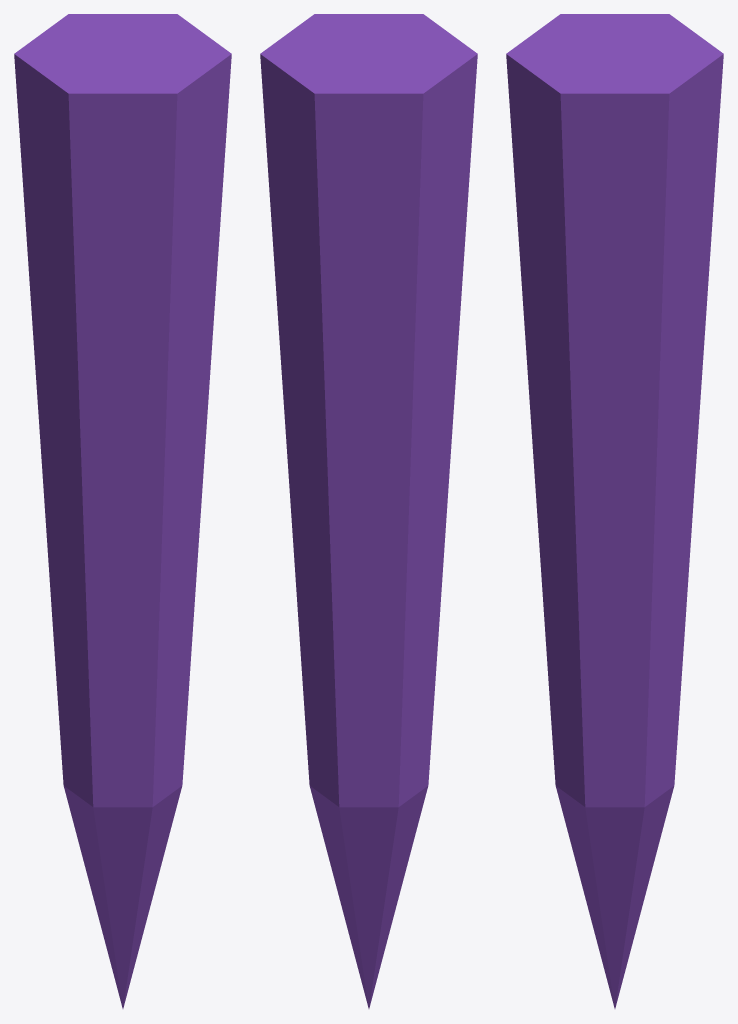
The model's file is Jem_35.fbx.
The picture shows the model from 3 angles, left to right: view 1: azimuth 30°, elevation 25°; view 2: azimuth 150°, elevation 25°; view 3: azimuth 270°, elevation 25°; orthographic projection.
Visible parts, largest first — view 1: Jem_35; view 2: Jem_35; view 3: Jem_35.
Boxes of the visible parts, x1,y1,x2,y2 form: Jem_35: (14, 14, 231, 1008); Jem_35: (260, 14, 477, 1008); Jem_35: (506, 14, 723, 1008).
Bounding box in the file's own units: 15.2 × 85.04 × 17.55.
